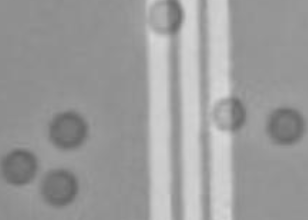cell: (43, 103, 94, 153), (262, 104, 308, 148), (37, 165, 84, 208), (204, 91, 249, 135), (1, 144, 40, 190), (142, 1, 189, 39)
